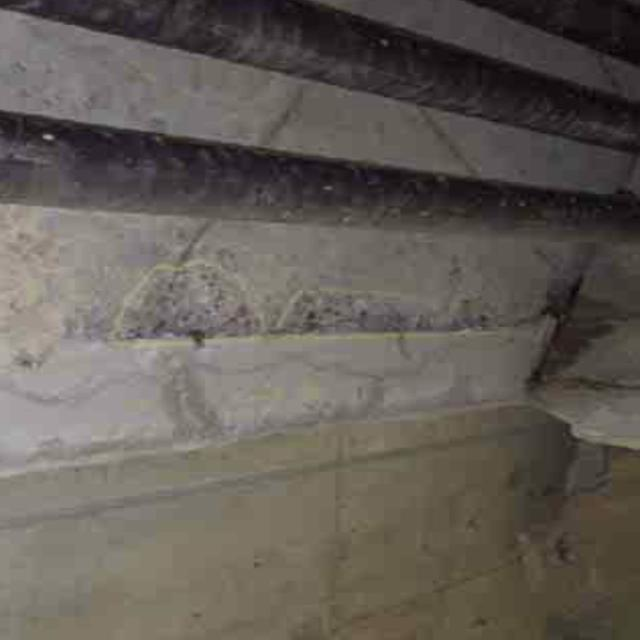spalling: (114, 267, 570, 366)
